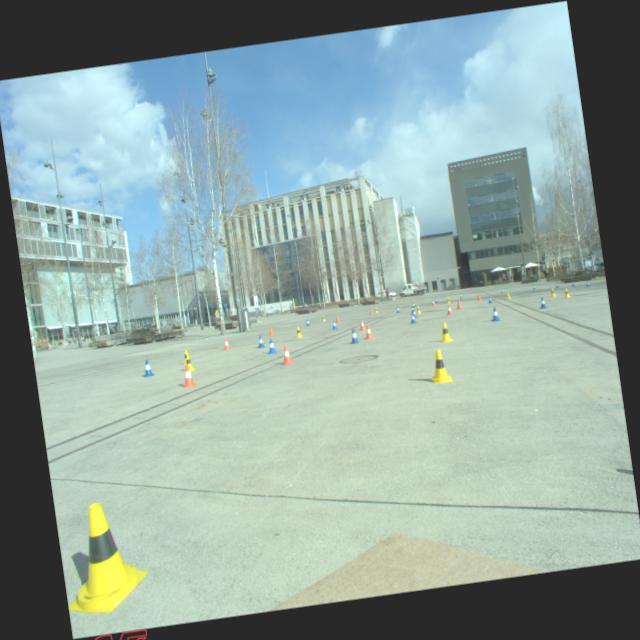blue_cone: (140, 358, 156, 378), (266, 338, 278, 354), (348, 328, 360, 344), (490, 306, 500, 322), (256, 335, 266, 349), (538, 296, 548, 310), (408, 312, 418, 324), (331, 320, 338, 330), (411, 308, 418, 318), (487, 296, 493, 304), (411, 306, 416, 314), (396, 306, 401, 313), (306, 318, 310, 326), (411, 302, 416, 308), (433, 298, 438, 303), (500, 288, 504, 294), (532, 284, 536, 290), (556, 282, 560, 288), (572, 281, 576, 287), (586, 281, 590, 287), (459, 294, 464, 298)
orange_cone: (180, 364, 197, 388), (280, 344, 295, 366), (364, 324, 374, 340), (222, 338, 232, 350), (446, 304, 454, 316), (358, 320, 366, 330), (456, 300, 463, 310), (268, 326, 274, 336), (334, 315, 340, 323), (369, 308, 374, 316), (477, 294, 482, 301), (431, 300, 436, 306)
yellow_cone: (55, 495, 152, 619), (426, 348, 454, 384), (180, 353, 197, 372), (438, 322, 454, 342), (180, 349, 193, 366), (295, 326, 303, 338), (562, 288, 570, 298), (415, 305, 422, 314), (550, 288, 556, 298), (505, 292, 511, 300), (374, 307, 379, 313), (446, 298, 451, 304), (322, 315, 326, 322)
